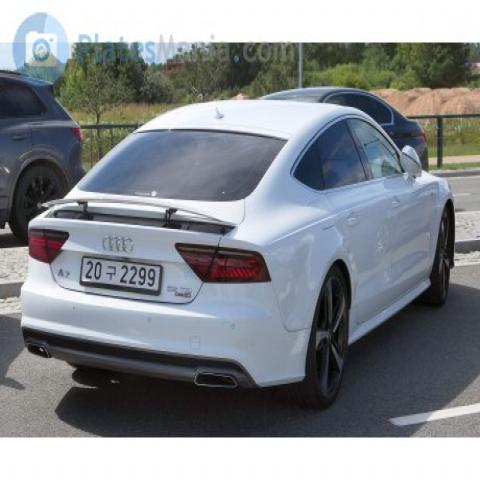LP: (77, 249, 165, 300)
